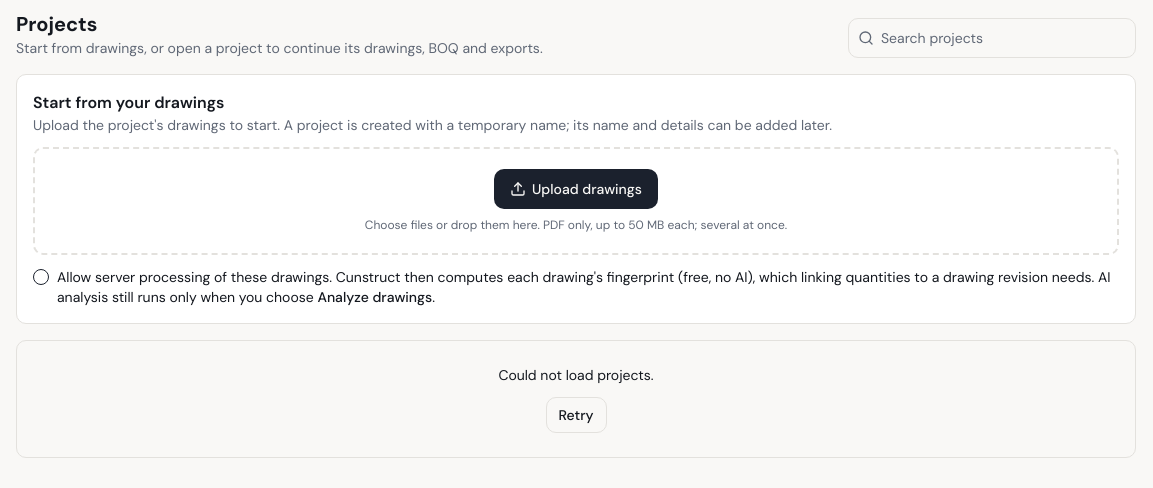
Test: estimation home — upload drawings first › a failed project-list read is an error with Retry, not an empty list
Expected: the text "Could not load projects." is shown, [498, 366, 654, 384]
Click the button "Retry" at [576, 415], box [546, 397, 606, 433]
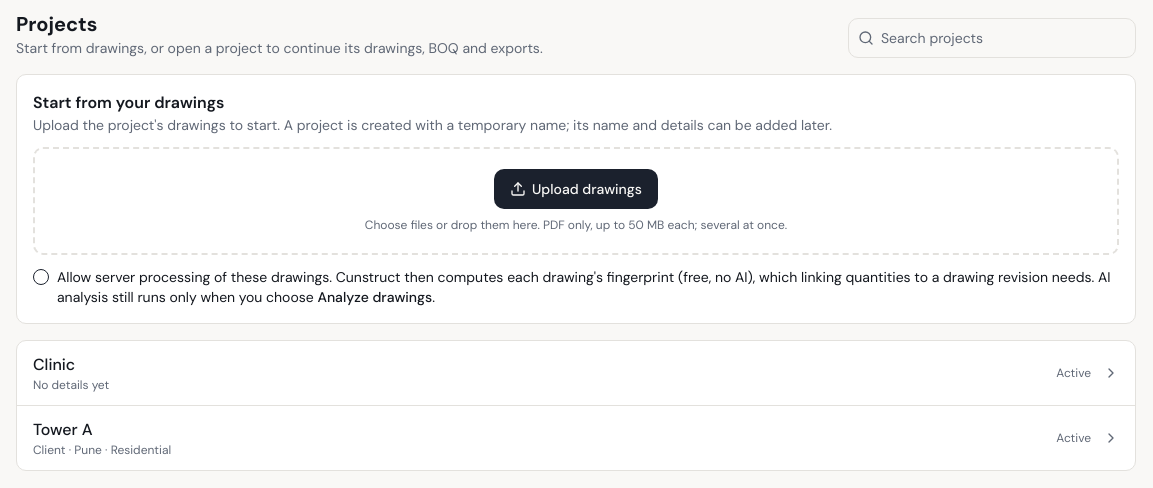
Result: the text "Tower A" is shown at [33, 419, 92, 440]
